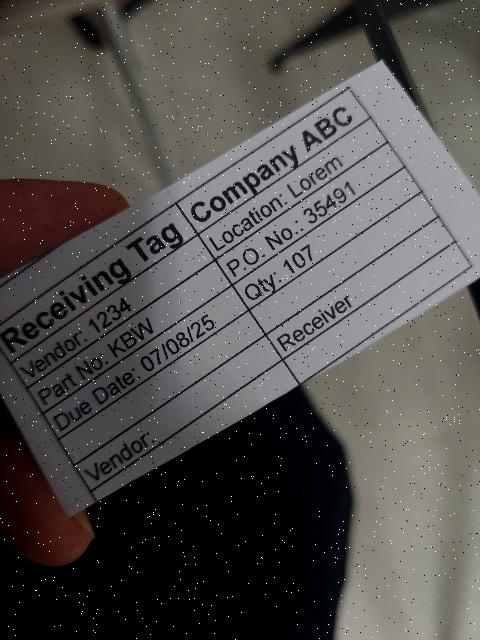PO no: (212, 143, 405, 286)
part no: (28, 262, 231, 412)
qty: (232, 165, 421, 308)
tags: (0, 60, 480, 521)
